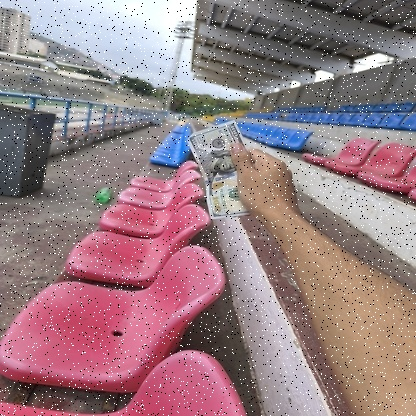one_hundred-front: (189, 118, 265, 221)
